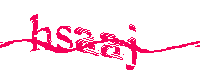a: (75, 27, 99, 57), (99, 32, 124, 60)
h: (30, 11, 52, 52)
j: (126, 24, 138, 70)
s: (55, 24, 75, 53)
